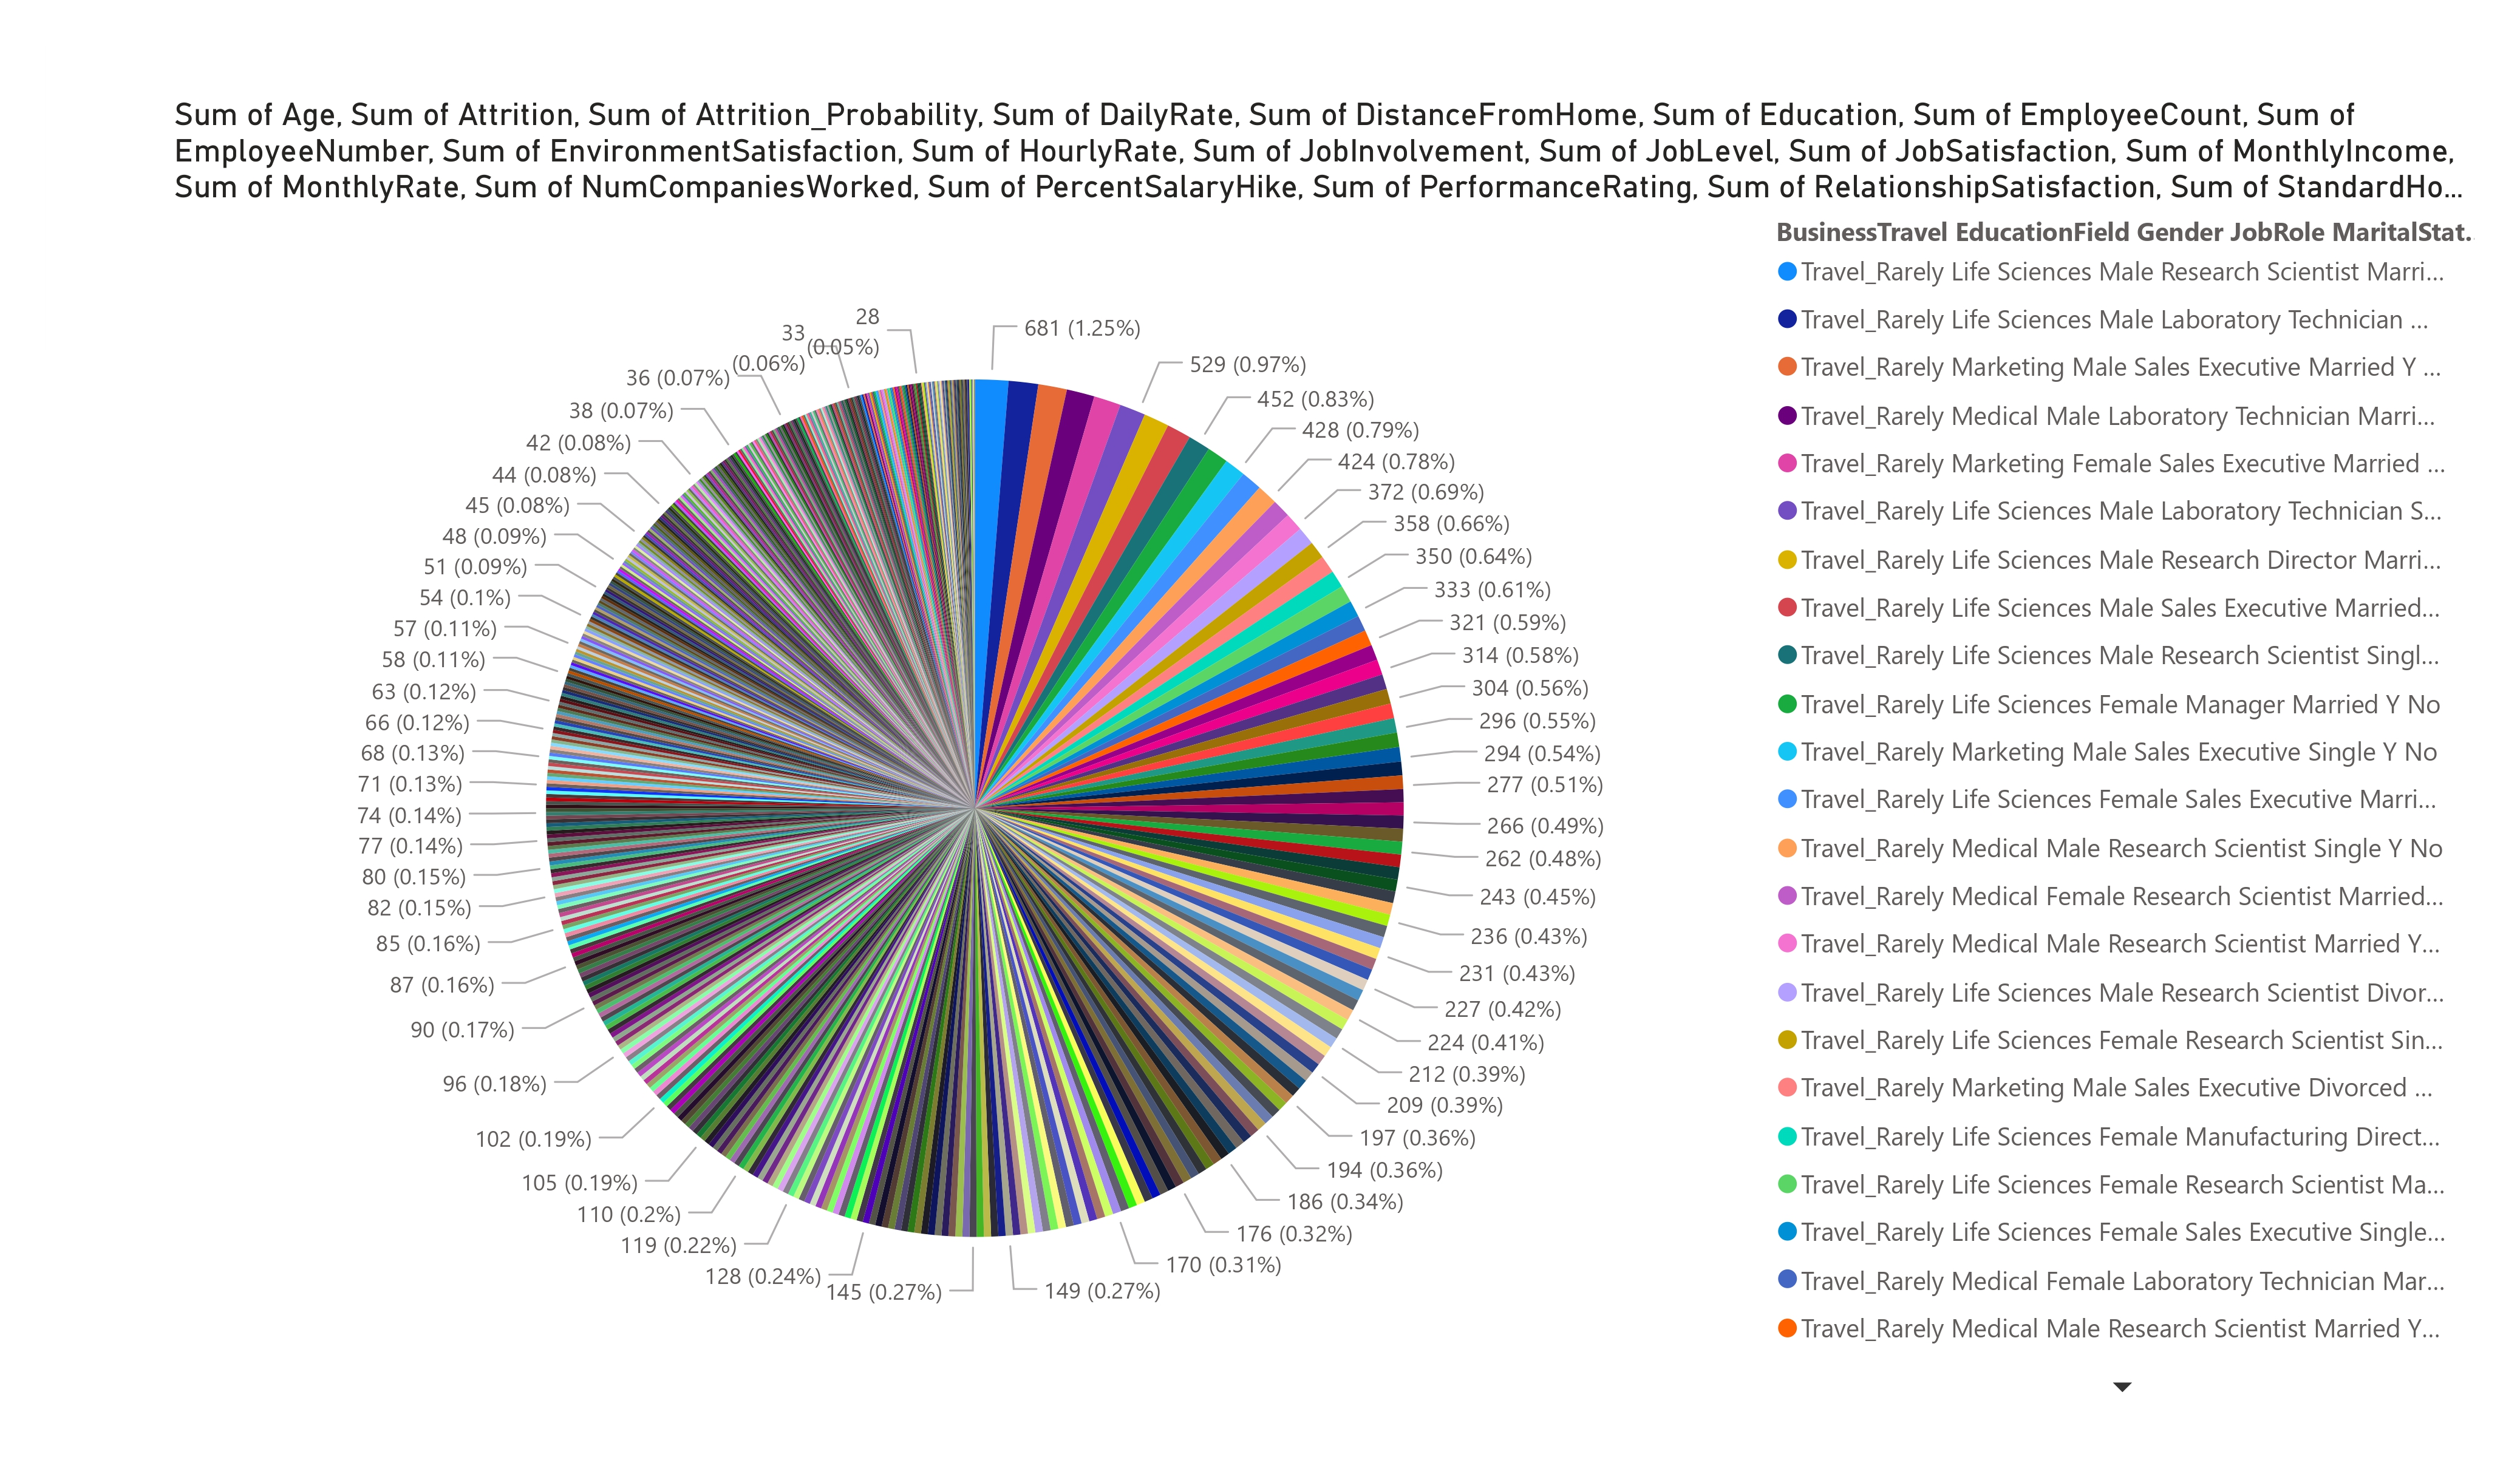

This screenshot's page, from the dashboard's own definition file:
{"tool":"powerbi","page":{"name":"Page 1","canvas":[1280,720],"ordinal":0},"visuals":[{"type":"pieChart","fields":{"Category":["Attrition_Output.BusinessTravel","Attrition_Output.EducationField","Attrition_Output.Gender","Attrition_Output.JobRole","Attrition_Output.MaritalStatus","Attrition_Output.Over18","Attrition_Output.OverTime","Attrition_Output.Department"],"Y":["Sum(Attrition_Output.Age)"]},"box":[63.1,26.1,1217.2,694.3],"z":0}]}

Visuals, with their boxes on the page's 1280x720 design canvas (x1, y1, x2, y2). These are canvas units, not pixel positions in the 2520x1457 screenshot, which may show the page scaled, cropped or inside an application window:
pieChart - Attrition_Output.BusinessTravel x Attrition_Output.EducationField: left=63, top=26, right=1280, bottom=720
